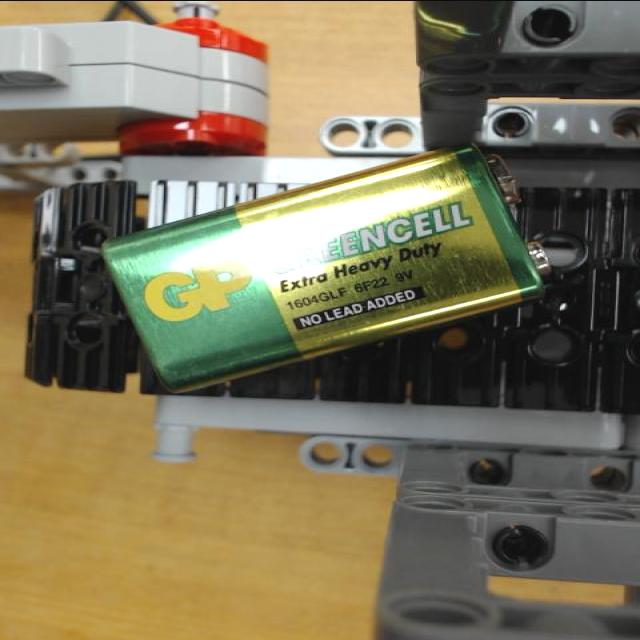9V: (99, 143, 552, 388)
